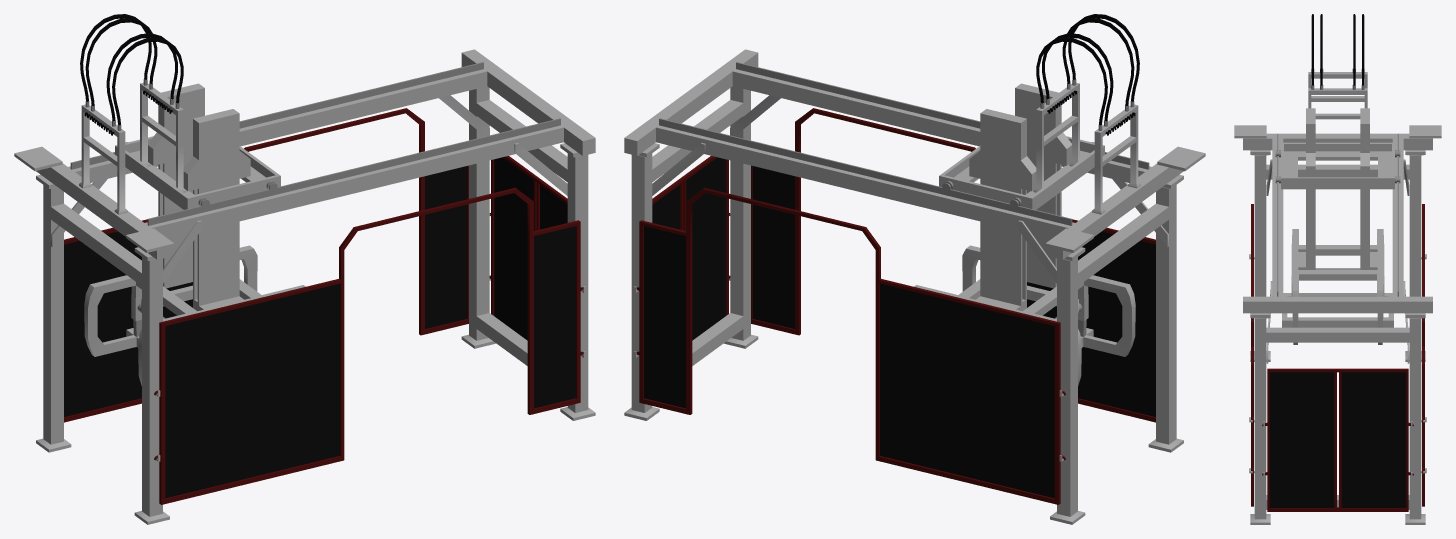
File: SM_ProdLine_Press_G.FBX
The picture shows the model from 3 angles, left to right: view 1: azimuth 30°, elevation 25°; view 2: azimuth 150°, elevation 25°; view 3: azimuth 270°, elevation 25°; orthographic projection. The views are drawn at different scales.
Visible parts, largest first — view 1: SM_ProdLine_Press_G_LOD0; view 2: SM_ProdLine_Press_G_LOD0; view 3: SM_ProdLine_Press_G_LOD0.
Part boxes in pixels (left/top/right/bottom): SM_ProdLine_Press_G_LOD0: left=14, top=14, right=595, bottom=524; SM_ProdLine_Press_G_LOD0: left=624, top=14, right=1205, bottom=524; SM_ProdLine_Press_G_LOD0: left=1234, top=14, right=1441, bottom=524.
Bounding box in the file's own units: 414 × 206 × 385.
